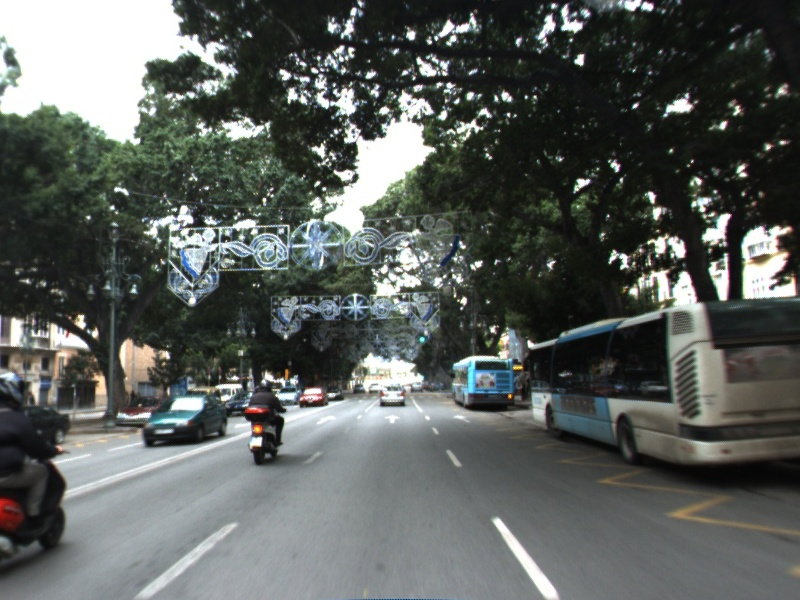STRAIGHT: (307, 411, 340, 424), (450, 412, 474, 425), (382, 412, 403, 426)
